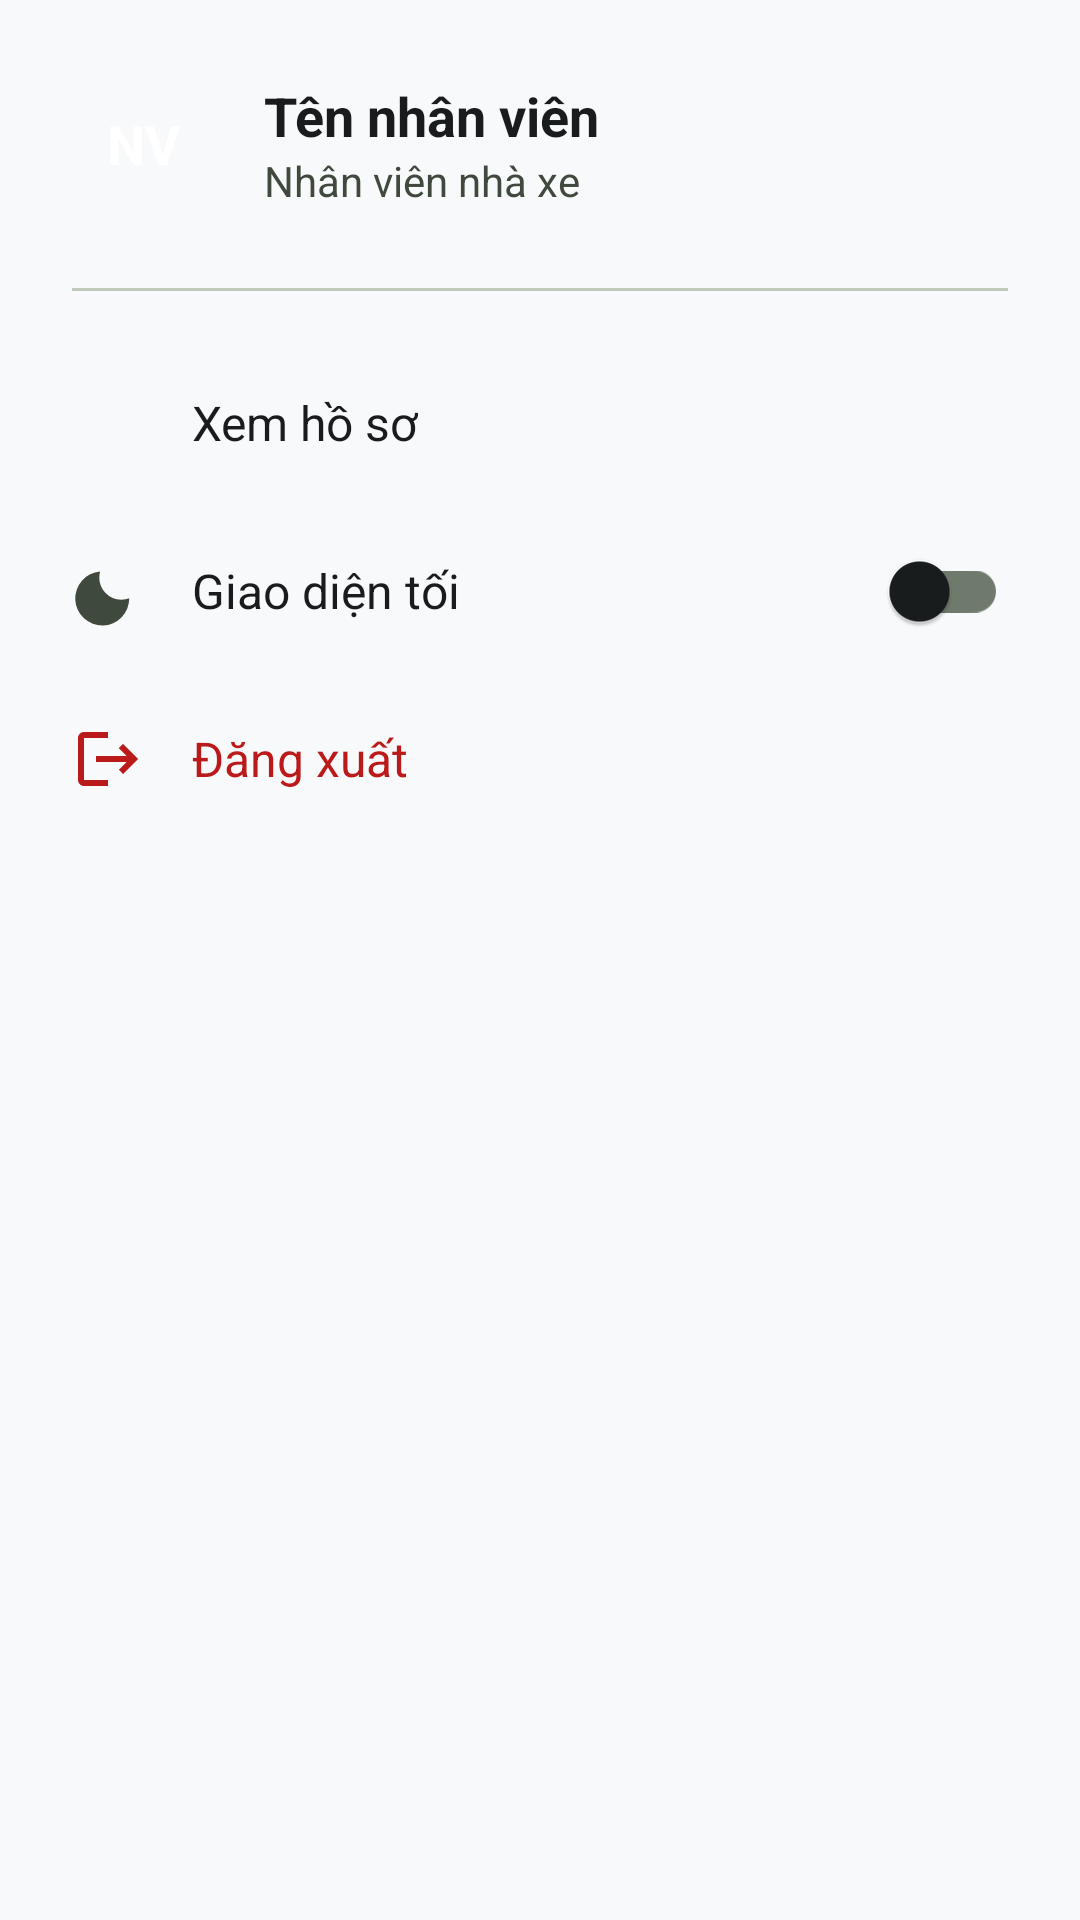

Named icons in this screenshot (1080 × 1920) and their bounding boxes, (x1, y1, x2, y2):
mode: (75, 571, 130, 626)
